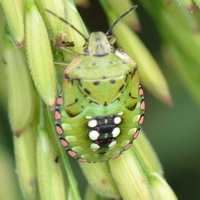insect: (45, 9, 144, 162)
